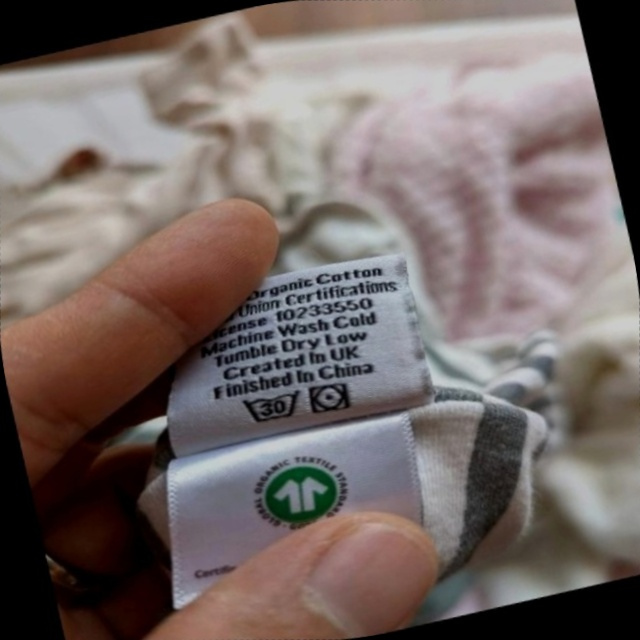30C: (228, 372, 316, 442)
tumble_dry_low: (297, 368, 363, 429)
